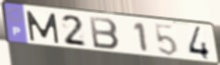1: (133, 23, 150, 54)
2: (60, 14, 87, 48)
4: (186, 25, 212, 61)
5: (153, 22, 180, 57)
B: (88, 15, 121, 51)
M: (24, 9, 61, 45)
